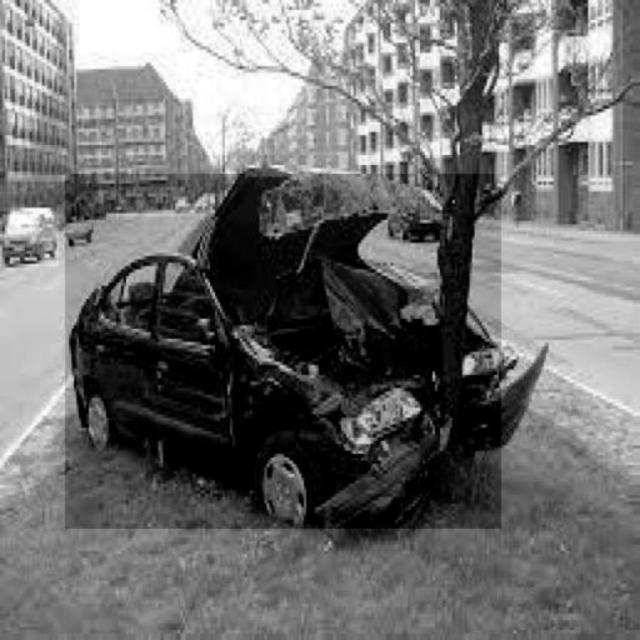accident: (65, 175, 501, 530)
vehicle: (4, 208, 59, 266)
